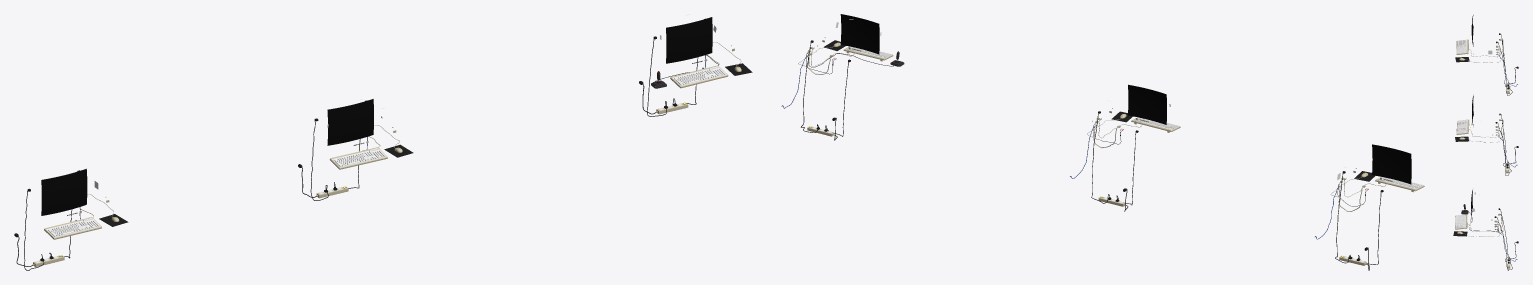
Rendered from AnnexCharted.fbx.
The picture shows the model from 3 angles, left to right: view 1: azimuth 30°, elevation 25°; view 2: azimuth 150°, elevation 25°; view 3: azimuth 270°, elevation 25°; orthographic projection. The views are drawn at different scales.
Visible parts, largest first — view 1: Station 12 rest, Station 13 rest, Station 14 rest; view 2: Station 12 rest, Station 14 rest, Station 13 rest; view 3: Station 12 rest, Station 13 rest, Station 14 rest.
Boxes of the visible parts, x1,y1,x2,y2 form: Station 12 rest: (639,14,752,116); Station 13 rest: (298,99,413,200); Station 14 rest: (14,168,128,270); Station 12 rest: (781,14,904,140); Station 14 rest: (1315,144,1424,270); Station 13 rest: (1069,84,1180,211); Station 12 rest: (1453,190,1518,270); Station 13 rest: (1455,95,1518,175); Station 14 rest: (1455,15,1518,95).
Bounding box in the file's own units: 8.6 × 1.37 × 1.21.
